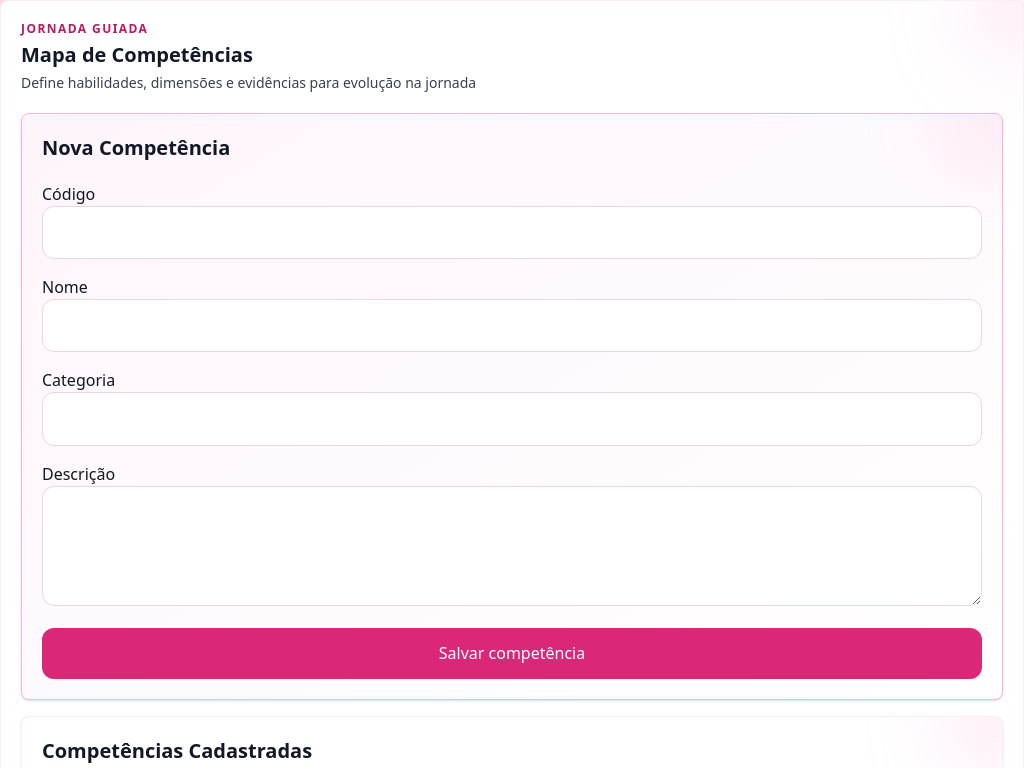
Test: CompetenciesPage › carrega competências e cria nova competência
The image size is (1024, 768).
Type "NEG-001" into the field labelled "Código" at (512, 233), box [42,206,982,259]
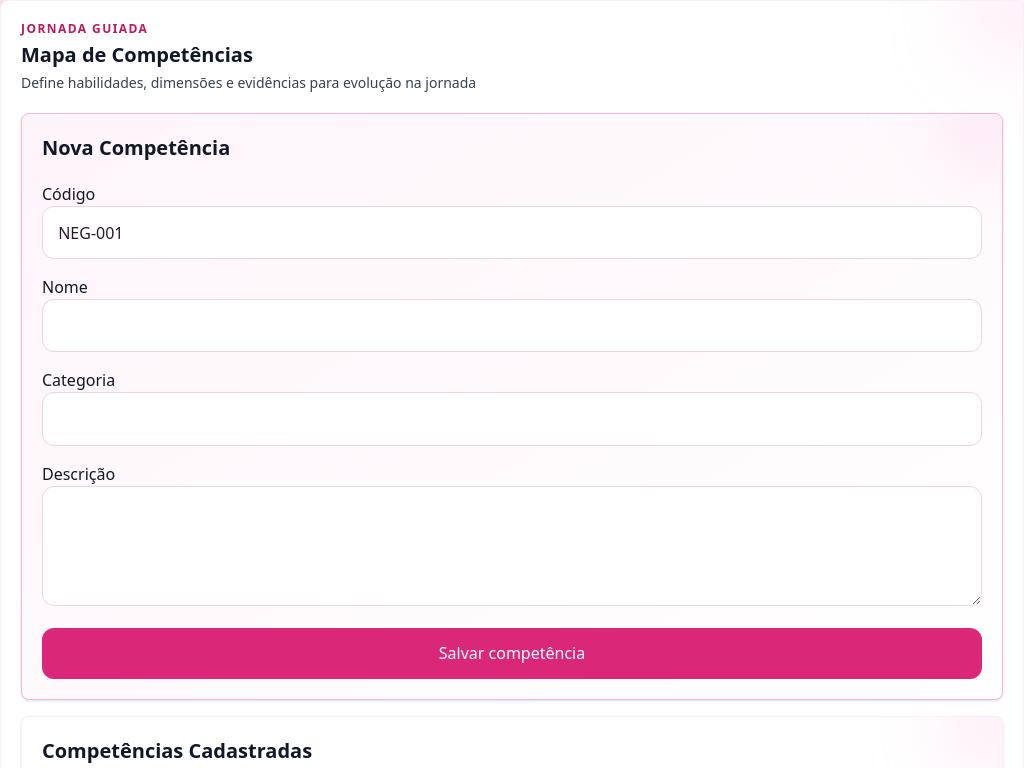
Type "Negociação" into the field labelled "Nome" at (512, 326), box [42,299,982,352]
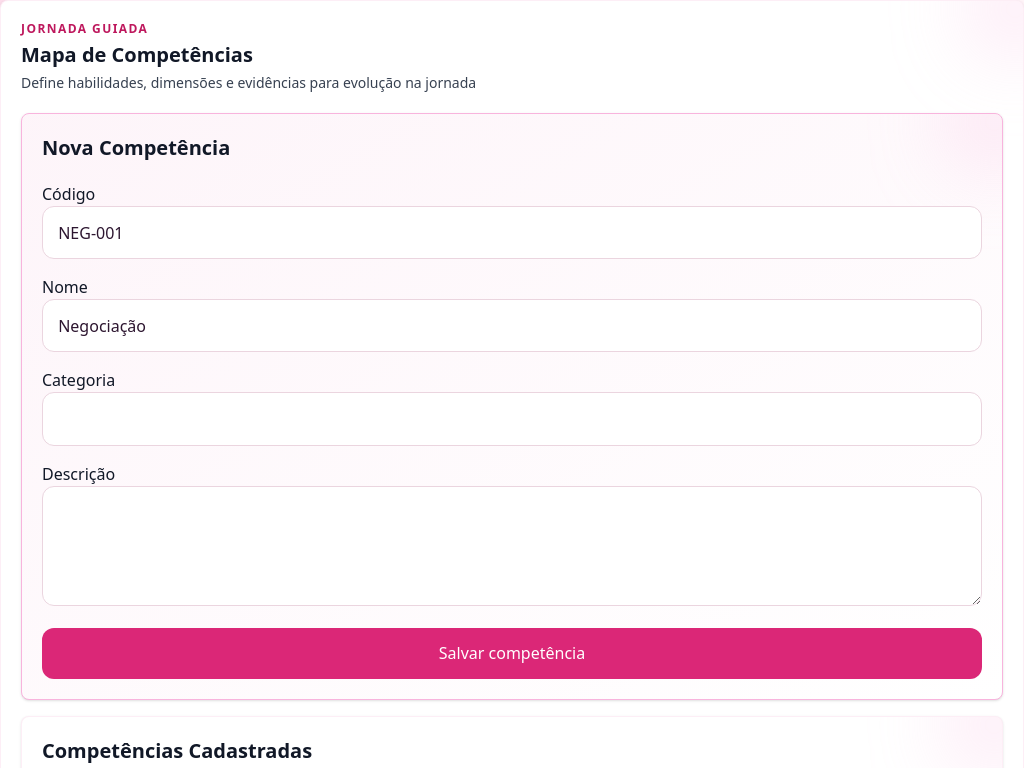
Type "soft-skills" into the field labelled "Categoria" at (512, 419), box [42,392,982,446]
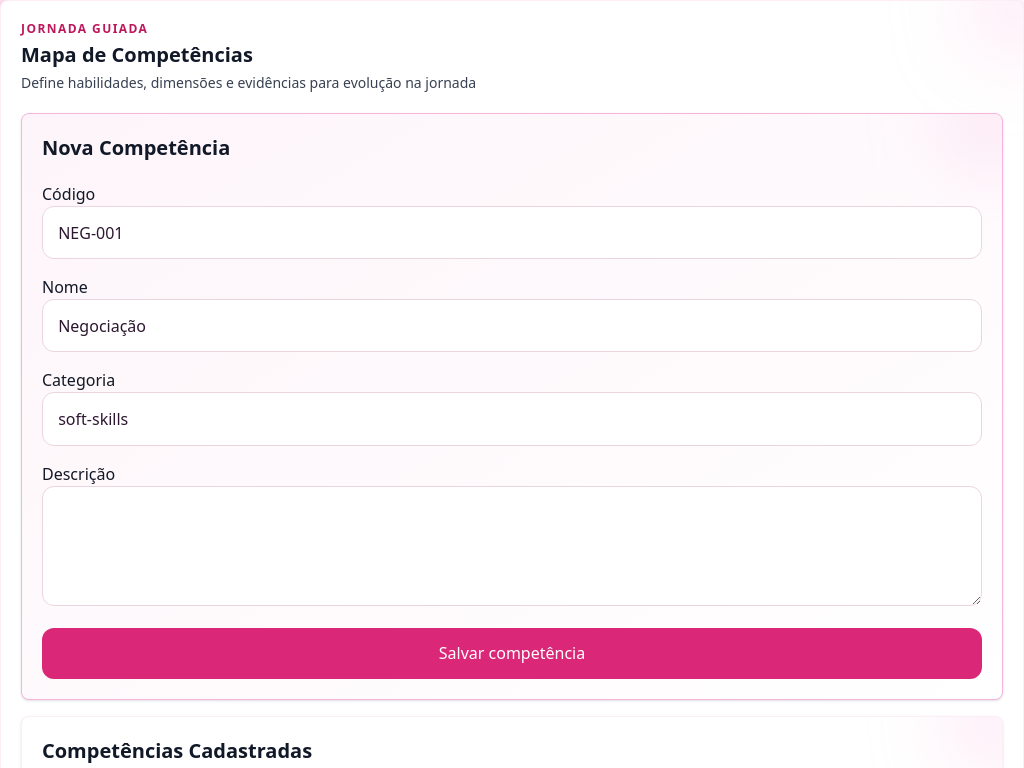
Type "Descrição B" into the text box labelled "Descrição" at (512, 546), box [42,486,982,606]
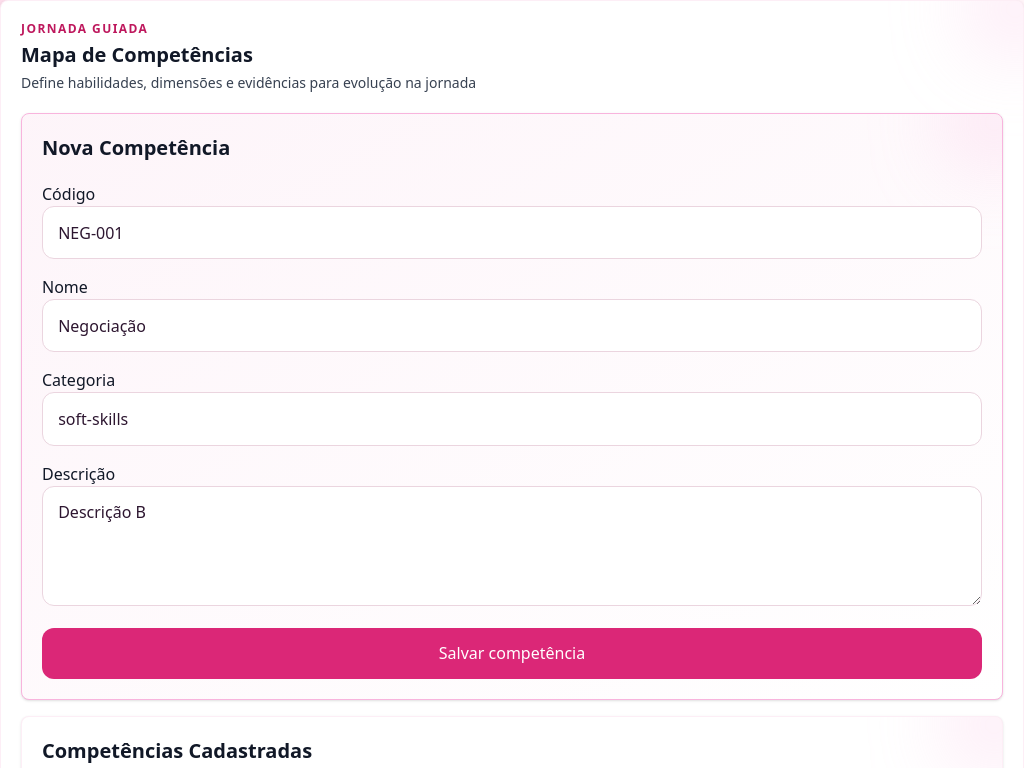
Click the button "Salvar competência" at (512, 653), box [42,628,982,679]
(page scrolled)
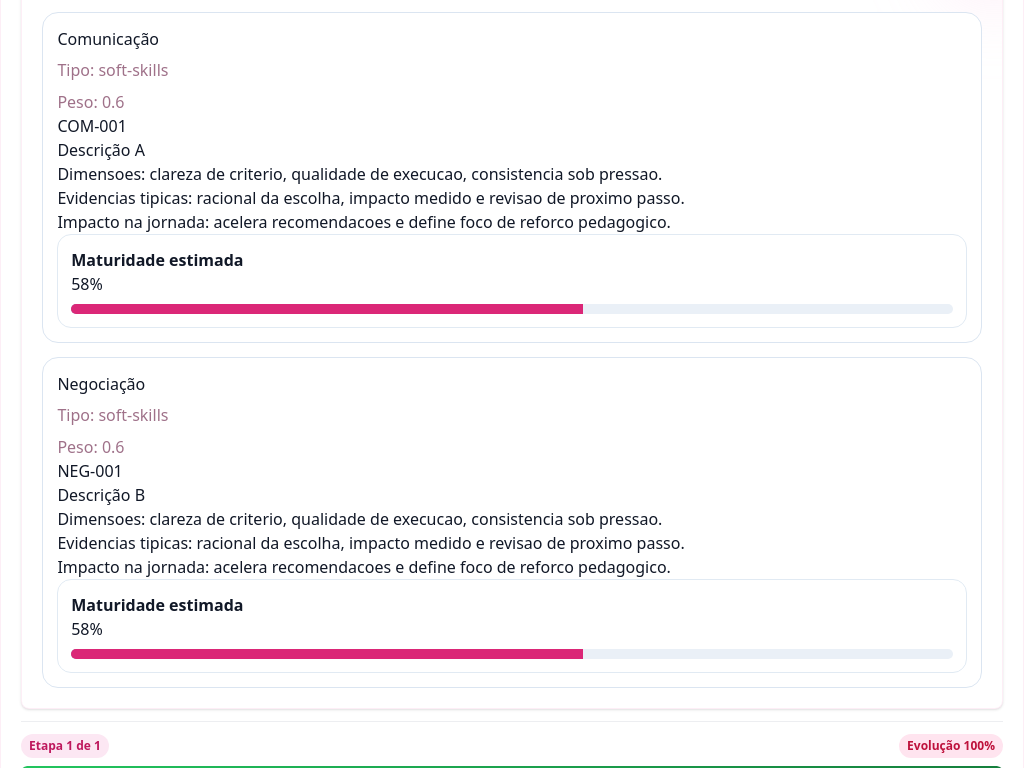
Result: the heading "Negociação" is shown at [57,373,145,395]
